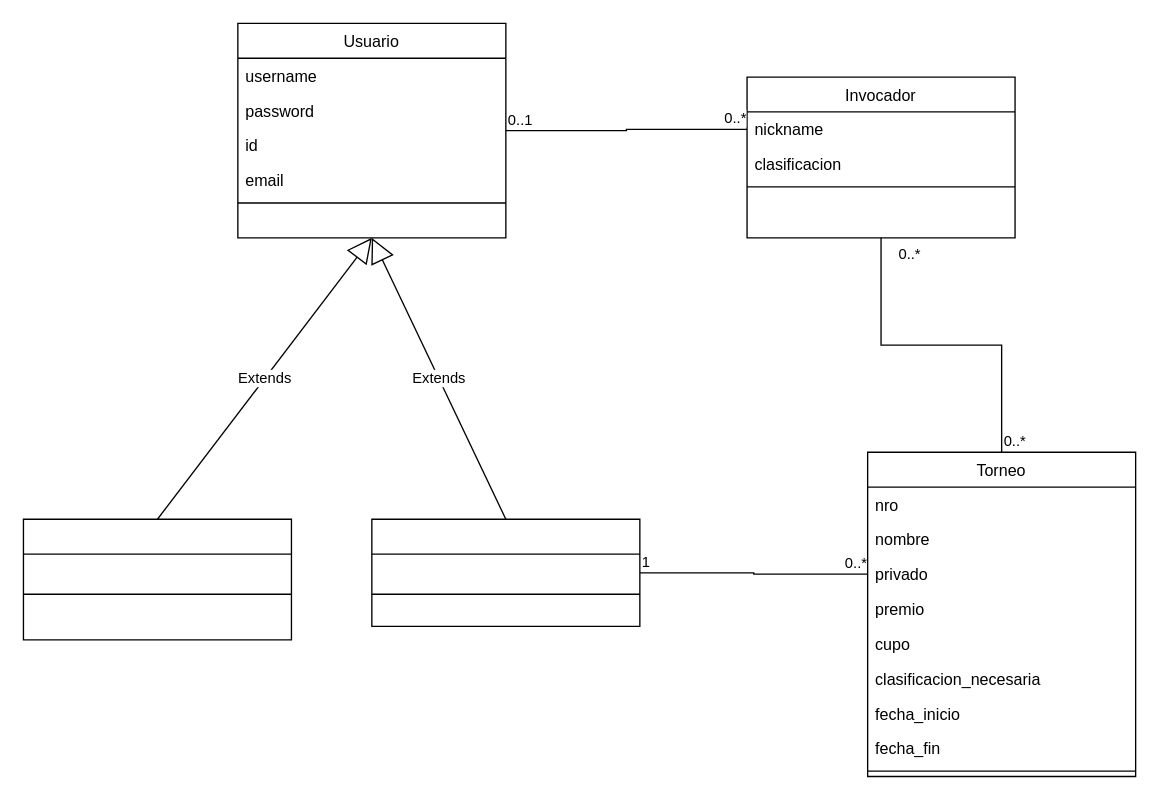
Image size: 1159x800. Some labels were removed from this diagram. Here are the shapes that lost their labels. From the top down, the centre of each, then its label:
At (x=156, y=579): "UsuarioNoPremium".
At (x=505, y=572): "UsuarioPremium".
